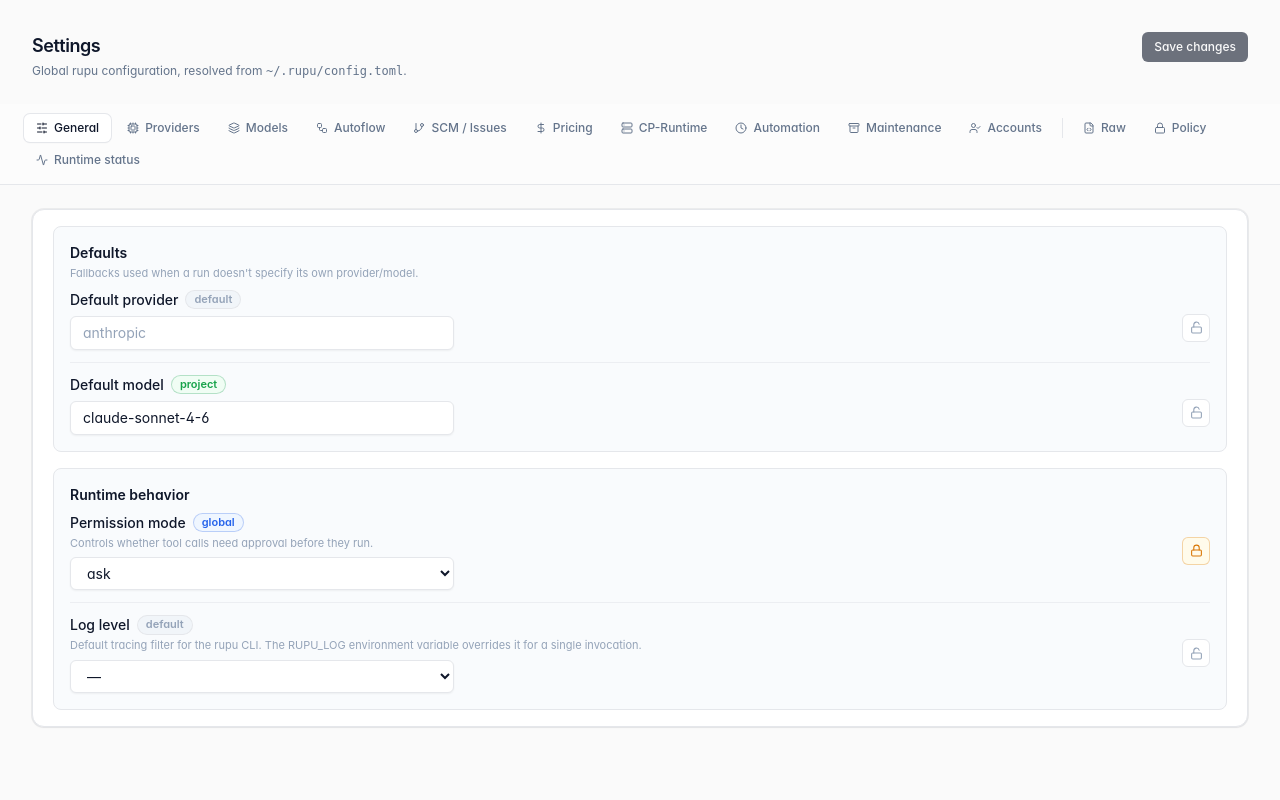
Settings page › renders "set" when token_set is true, still without any value
Expected: the field labelled "Default model" is shown, [70,400,454,434]
Step 1. Click the button "CP-Runtime" → click(664, 128), box [609,114,719,142]
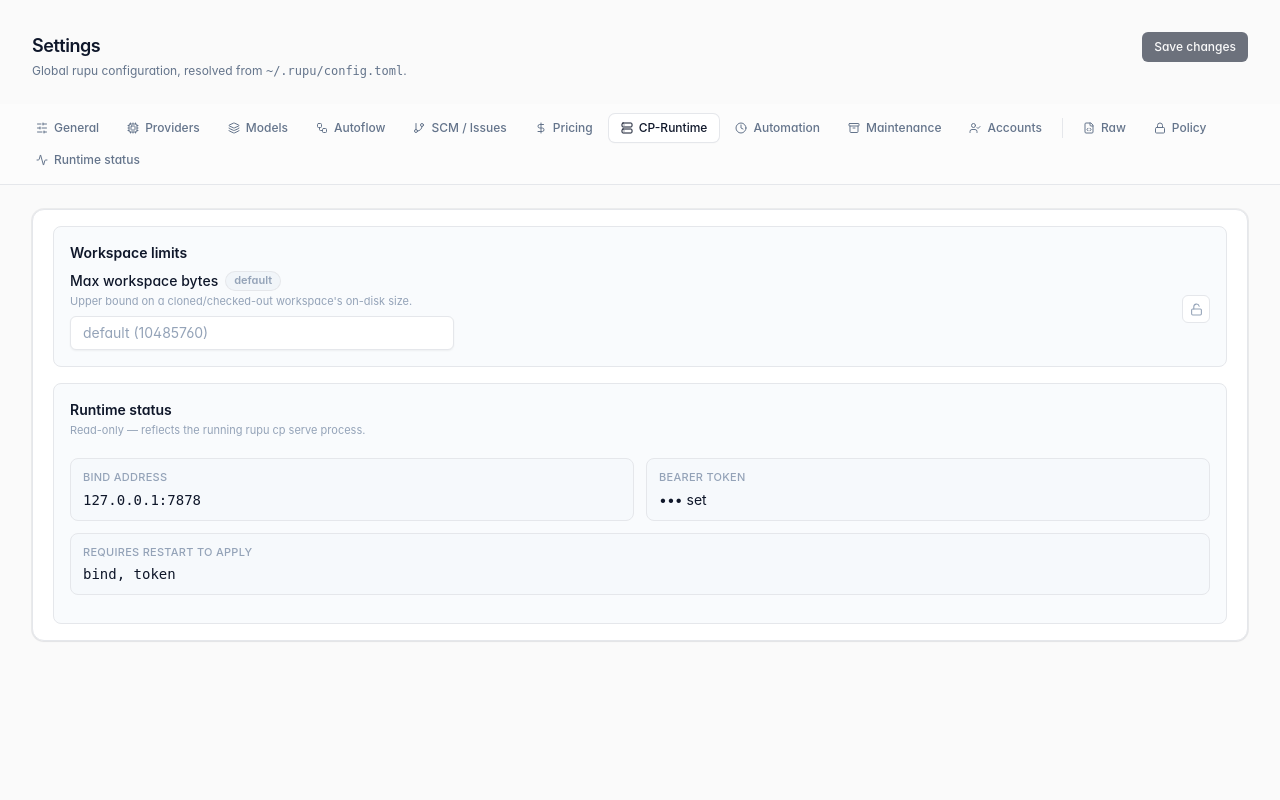
Now the text "••• set" is shown, box [659,490,707,508]
